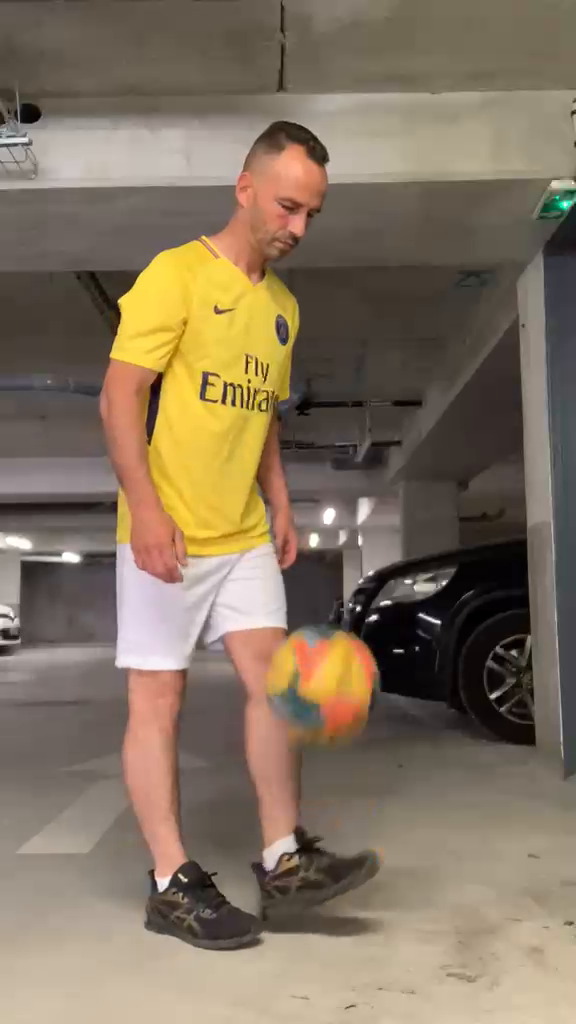ball: (263, 626, 379, 742)
